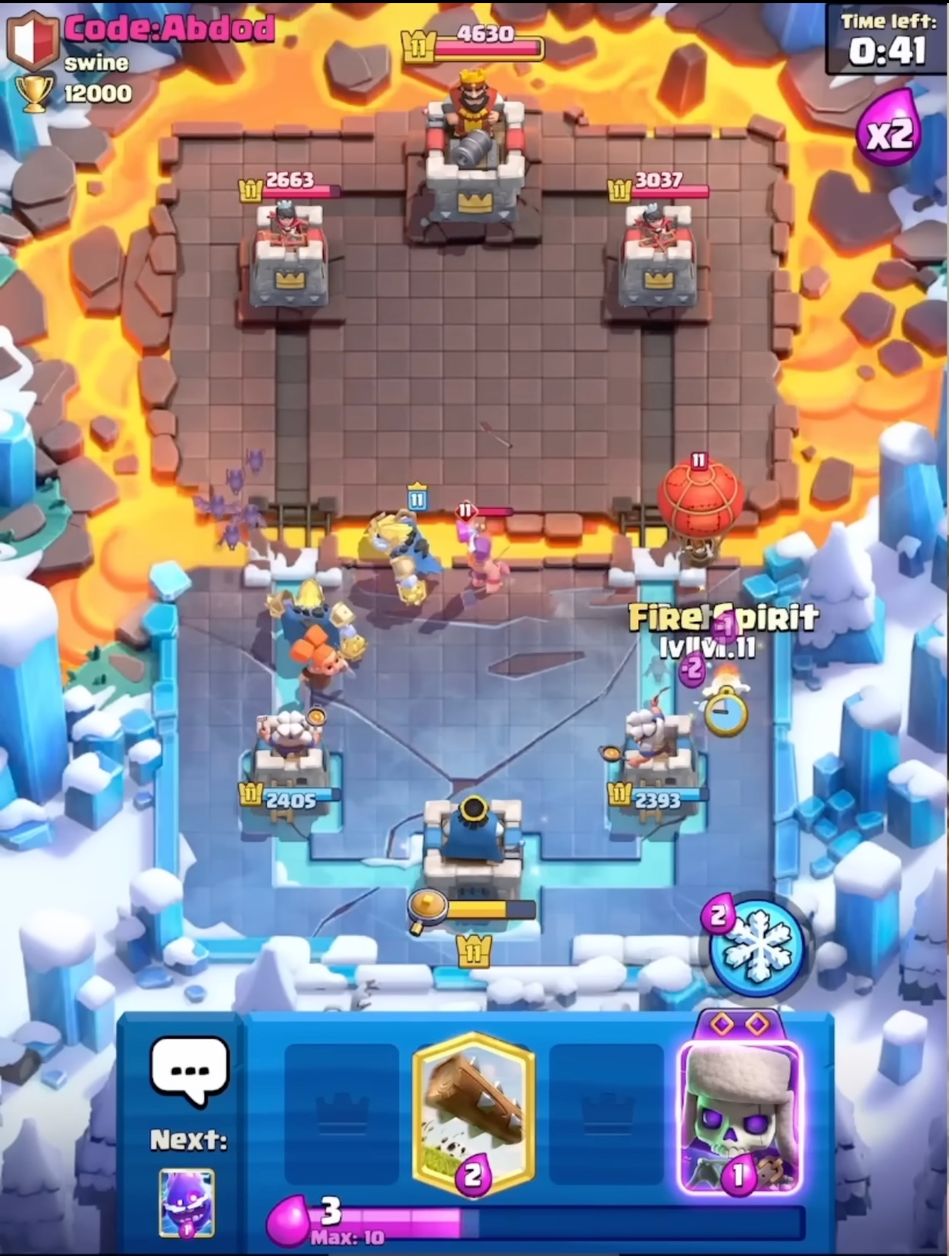hero-ice-golem: (363, 474, 445, 615), (261, 576, 371, 665)
